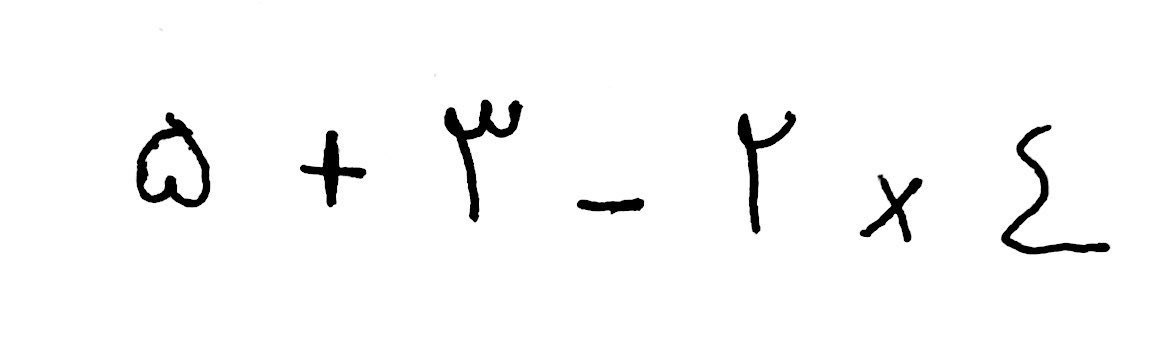character: (999, 120, 1112, 254), (442, 96, 523, 222), (734, 109, 798, 234), (133, 111, 213, 209), (297, 128, 368, 209), (859, 174, 924, 244), (576, 194, 646, 215)
